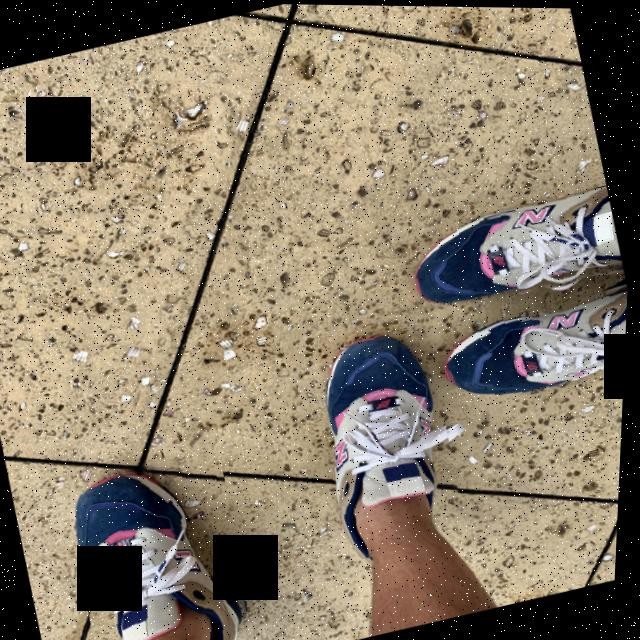shoe: (303, 319, 482, 562), (61, 444, 276, 640), (398, 180, 631, 326), (434, 275, 631, 412)
